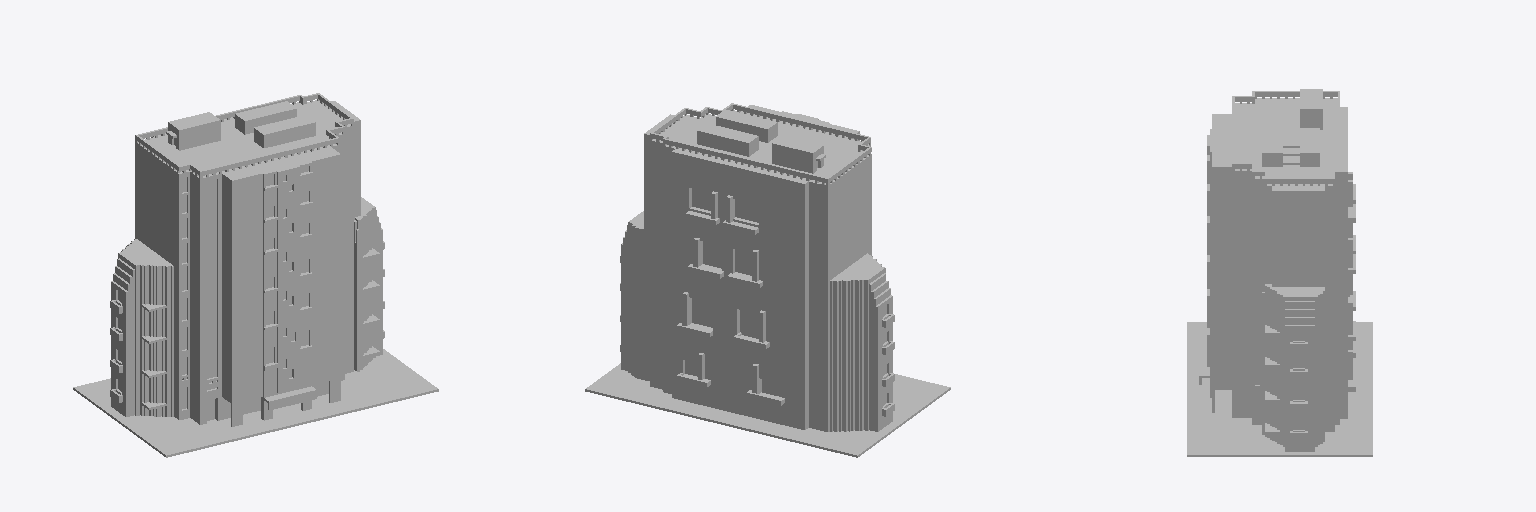
Rendered from building1.obj.
The picture shows the model from 3 angles: view 1: azimuth 30°, elevation 25°; view 2: azimuth 150°, elevation 25°; view 3: azimuth 270°, elevation 25°; orthographic projection.
Parts seen in each view (by area): view 1: object 1; view 2: object 1; view 3: object 1.
Part boxes in pixels (left/top/right/bottom): object 1: left=73, top=93, right=438, bottom=457; object 1: left=585, top=103, right=950, bottom=457; object 1: left=1187, top=89, right=1372, bottom=456.
Bounding box in the file's own units: 12.5 × 11.8 × 7.4.